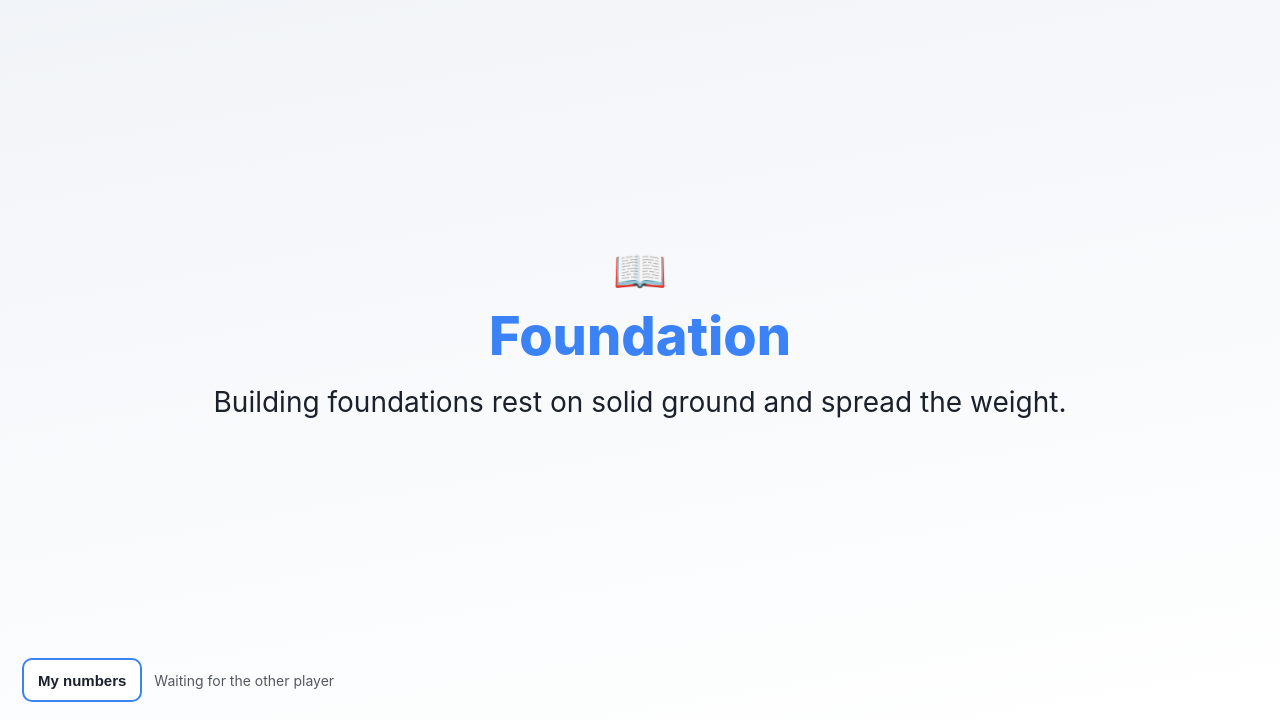
Test: PlayerPanelV2 — one "?" everywhere › the waiting word takes over the page (Tom, TV test 10-30) › one small button shows their numbers instead
The width and height of the screenshot is (1280, 720).
Click the button with test id "waiting-my-numbers". click: (82, 680)
box: [22,658,142,702]
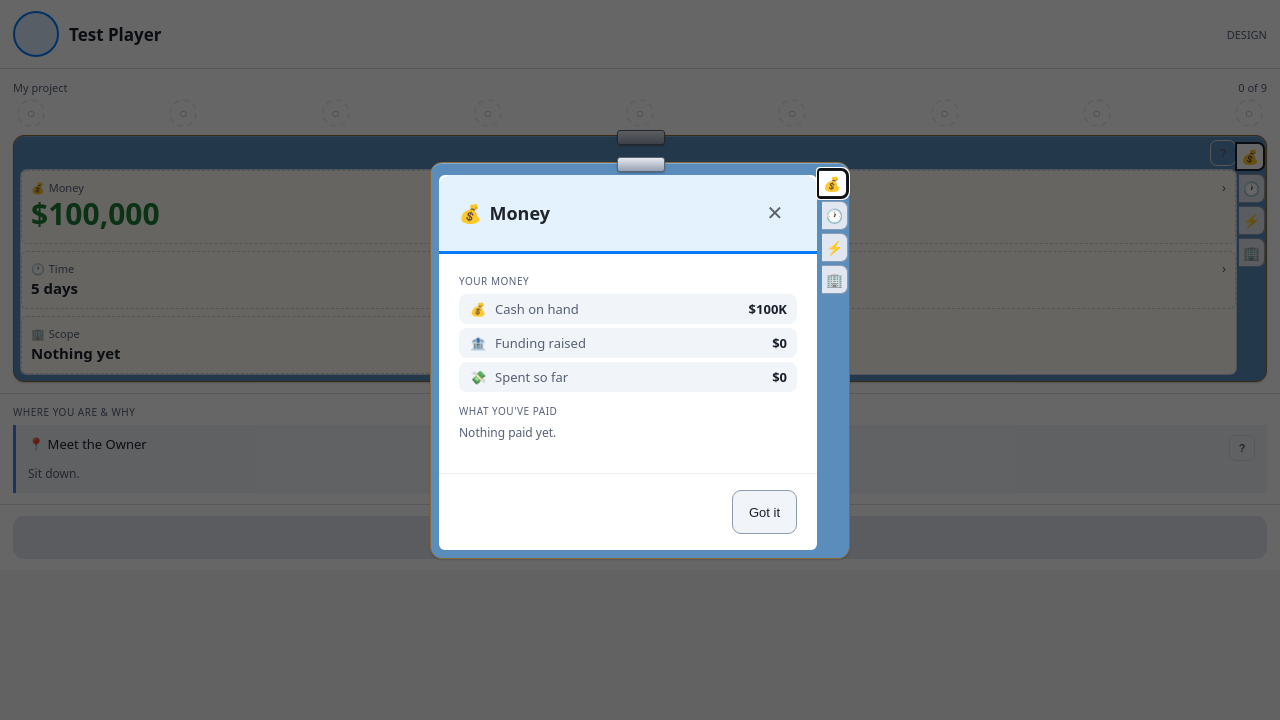
Check: the element with test id "waiting-word-page" is gone
